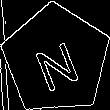N_N: (29, 28, 84, 90)
